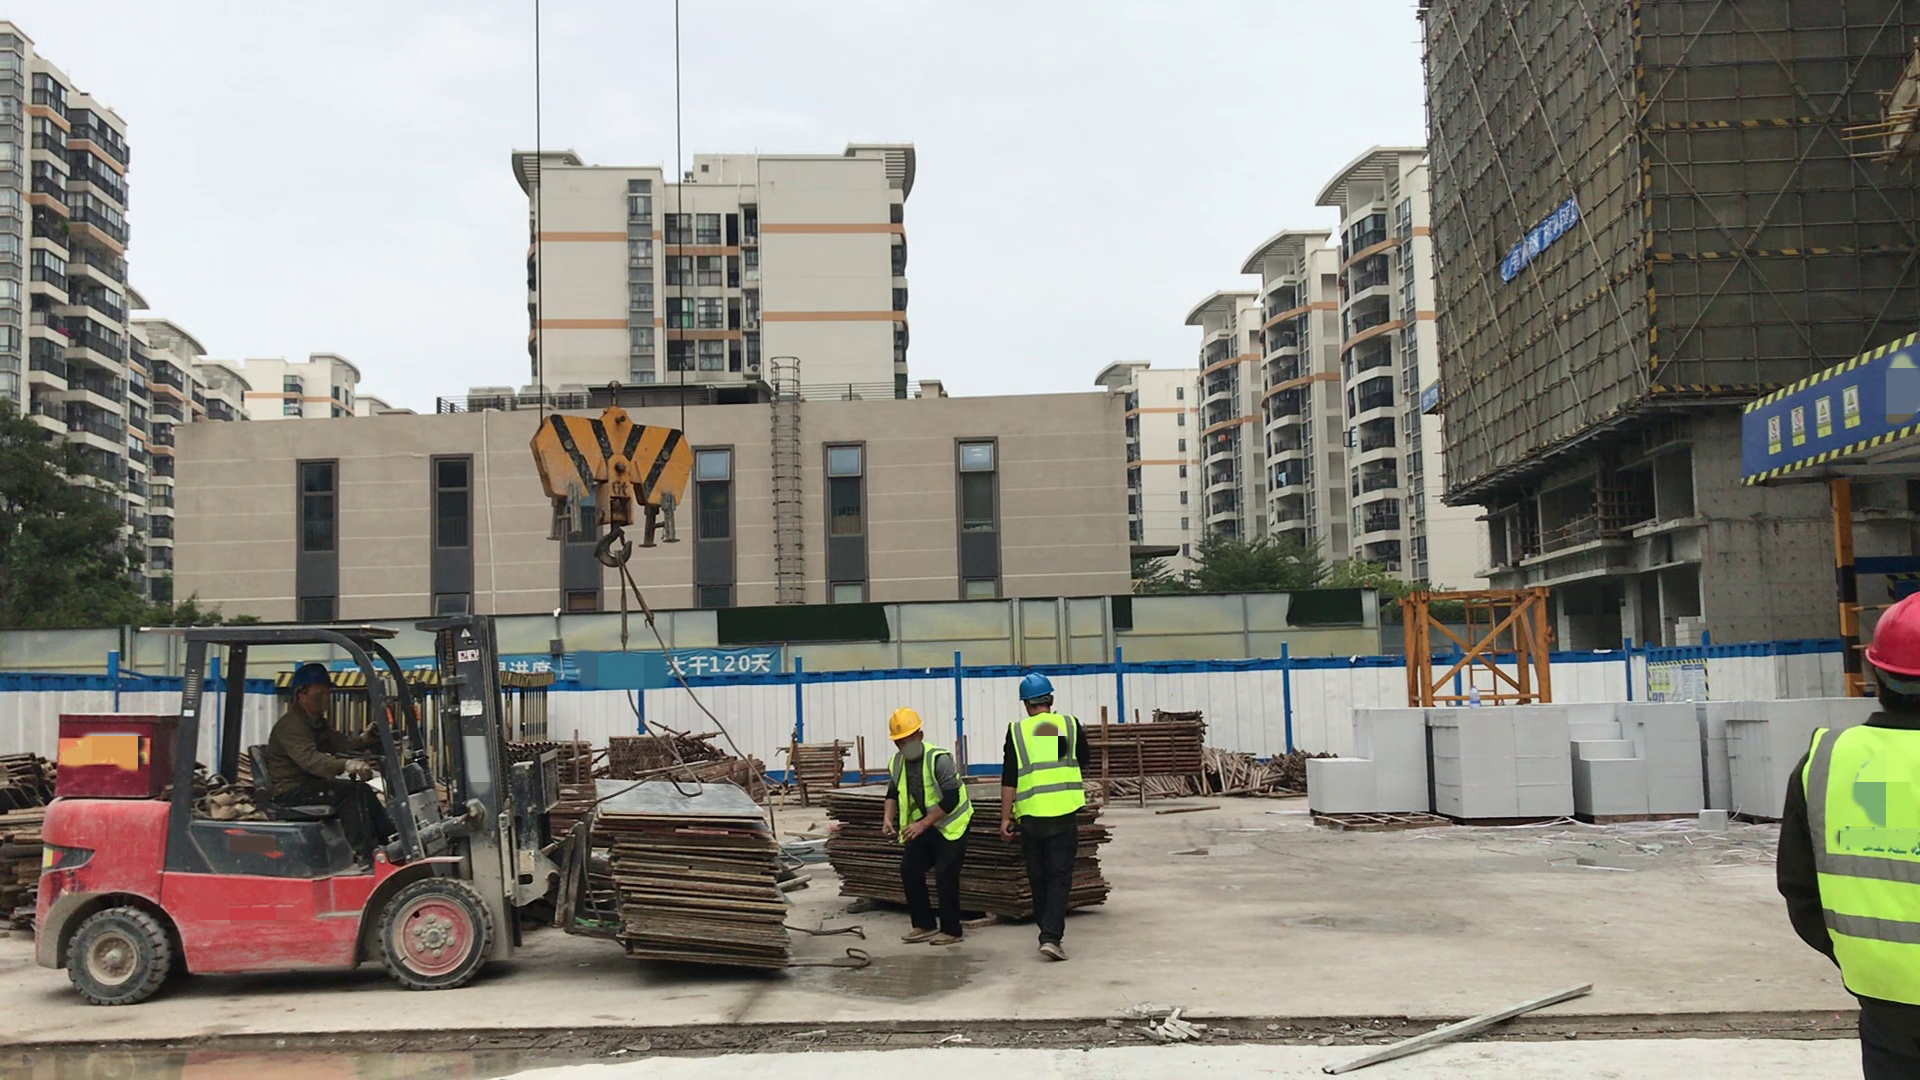board: (803, 754, 1135, 943), (579, 759, 813, 987), (1, 734, 67, 947)
brick: (1308, 692, 1885, 841)
helmet: (1848, 566, 1920, 697), (273, 649, 343, 712), (1011, 666, 1078, 722), (878, 708, 932, 753)
hook: (515, 369, 717, 597)
person: (1759, 564, 1919, 1080), (993, 653, 1112, 965), (254, 647, 409, 862), (879, 700, 977, 962)
scaffold: (603, 732, 799, 792), (1076, 719, 1218, 785)
slogan: (1713, 323, 1920, 495), (314, 639, 790, 708), (1473, 189, 1591, 278), (1637, 647, 1715, 704), (1411, 380, 1450, 423)
vest: (1779, 712, 1920, 1029), (993, 712, 1099, 835), (879, 745, 976, 845)
